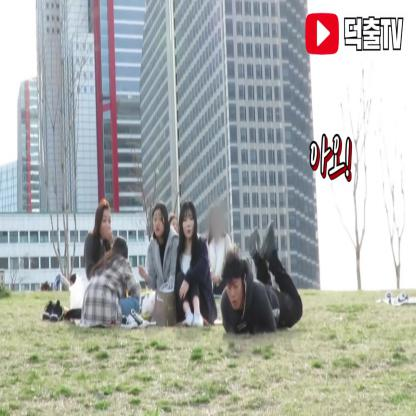Fall_Down: (218, 217, 305, 337)
